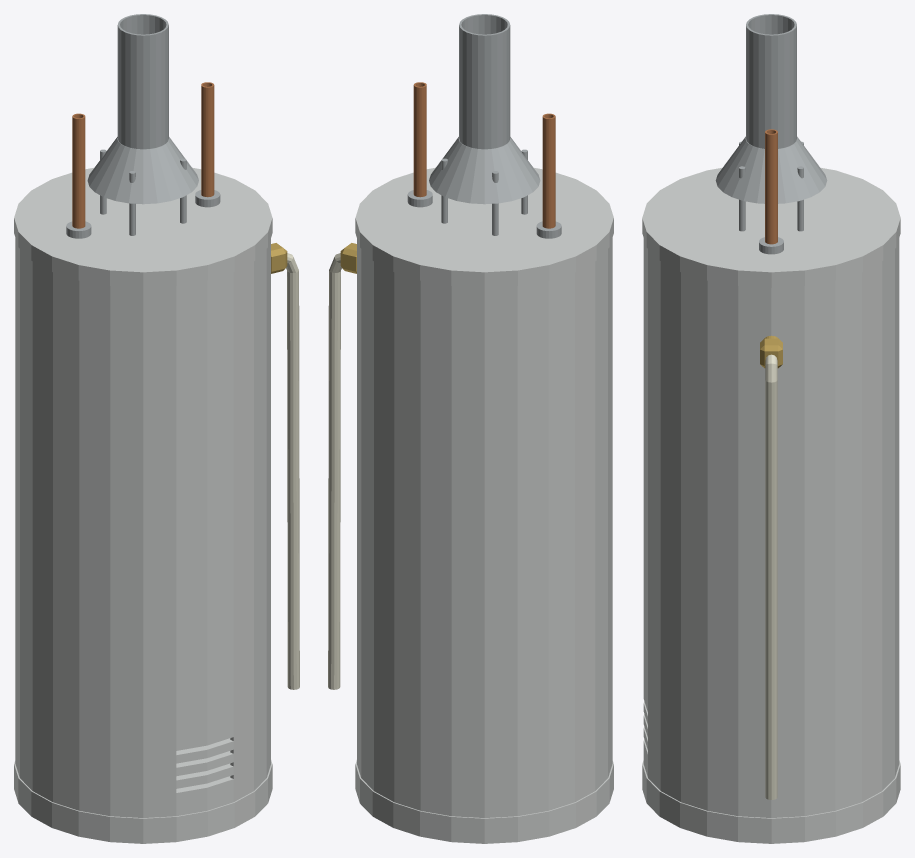
Rendered from full.glb.
3 renders of one model, left to right at view 1: azimuth 30°, elevation 25°; view 2: azimuth 150°, elevation 25°; view 3: azimuth 270°, elevation 25°, orthographic.
Visible parts, largest first — view 1: Tank shell with four real vents, Flat upper lid, Rounded bottom closure, Open vertical exhaust flue, Open discharge tube, Open draft hood, Open copper stub -0.16, Open copper stub 0.16; view 2: Tank shell with four real vents, Flat upper lid, Rounded bottom closure, Open vertical exhaust flue, Open discharge tube, Open draft hood, Open copper stub -0.16, Open copper stub 0.16; view 3: Tank shell with four real vents, Flat upper lid, Rounded bottom closure, Open vertical exhaust flue, Open discharge tube, Open draft hood, Open copper stub 0.16, Brass valve elbow.
Boxes of the visible parts, bbox=[...] form: Tank shell with four real vents: bbox=[15, 238, 270, 817]; Flat upper lid: bbox=[14, 167, 272, 287]; Rounded bottom closure: bbox=[14, 738, 272, 843]; Open vertical exhaust flue: bbox=[117, 14, 168, 149]; Open discharge tube: bbox=[286, 253, 299, 689]; Open draft hood: bbox=[87, 137, 198, 204]; Open copper stub -0.16: bbox=[72, 113, 85, 228]; Open copper stub 0.16: bbox=[201, 82, 214, 197]; Tank shell with four real vents: bbox=[357, 238, 612, 817]; Flat upper lid: bbox=[355, 167, 613, 287]; Rounded bottom closure: bbox=[355, 760, 613, 843]; Open vertical exhaust flue: bbox=[459, 14, 510, 149]; Open discharge tube: bbox=[328, 253, 341, 689]; Open draft hood: bbox=[429, 137, 540, 204]; Open copper stub -0.16: bbox=[542, 113, 555, 228]; Open copper stub 0.16: bbox=[413, 82, 426, 197]; Tank shell with four real vents: bbox=[643, 238, 899, 817]; Flat upper lid: bbox=[642, 167, 900, 287]; Rounded bottom closure: bbox=[642, 760, 900, 843]; Open vertical exhaust flue: bbox=[746, 14, 796, 148]; Open discharge tube: bbox=[765, 354, 777, 799]; Open draft hood: bbox=[715, 136, 827, 203]; Open copper stub 0.16: bbox=[765, 129, 777, 244]; Brass valve elbow: bbox=[760, 338, 782, 368].
Size of the model in its own units: 0.665 by 1.82 by 0.556.
